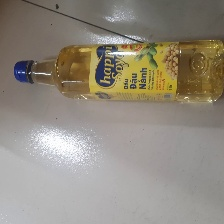Happy Soya: (13, 39, 224, 105)
